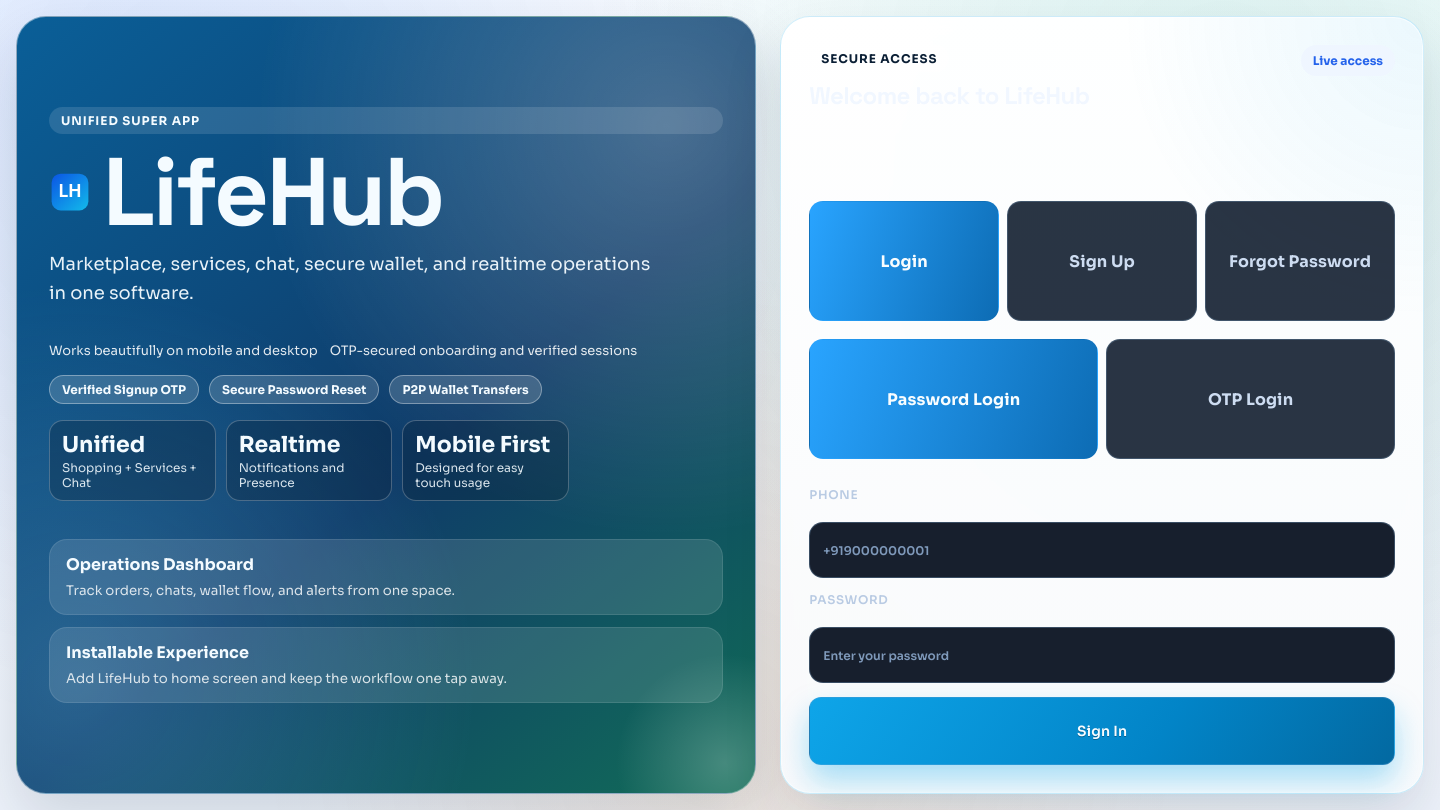
Test: AuthPage UI Functional Tests › should render login tab and switch to signup mode when clicked
The image size is (1440, 810).
Check: the button "Sign In" is shown, box [809,697,1395,765]
Click Sign Up tab
Click the button "Sign Up".
click(1102, 261)  # box [1007,201,1197,321]
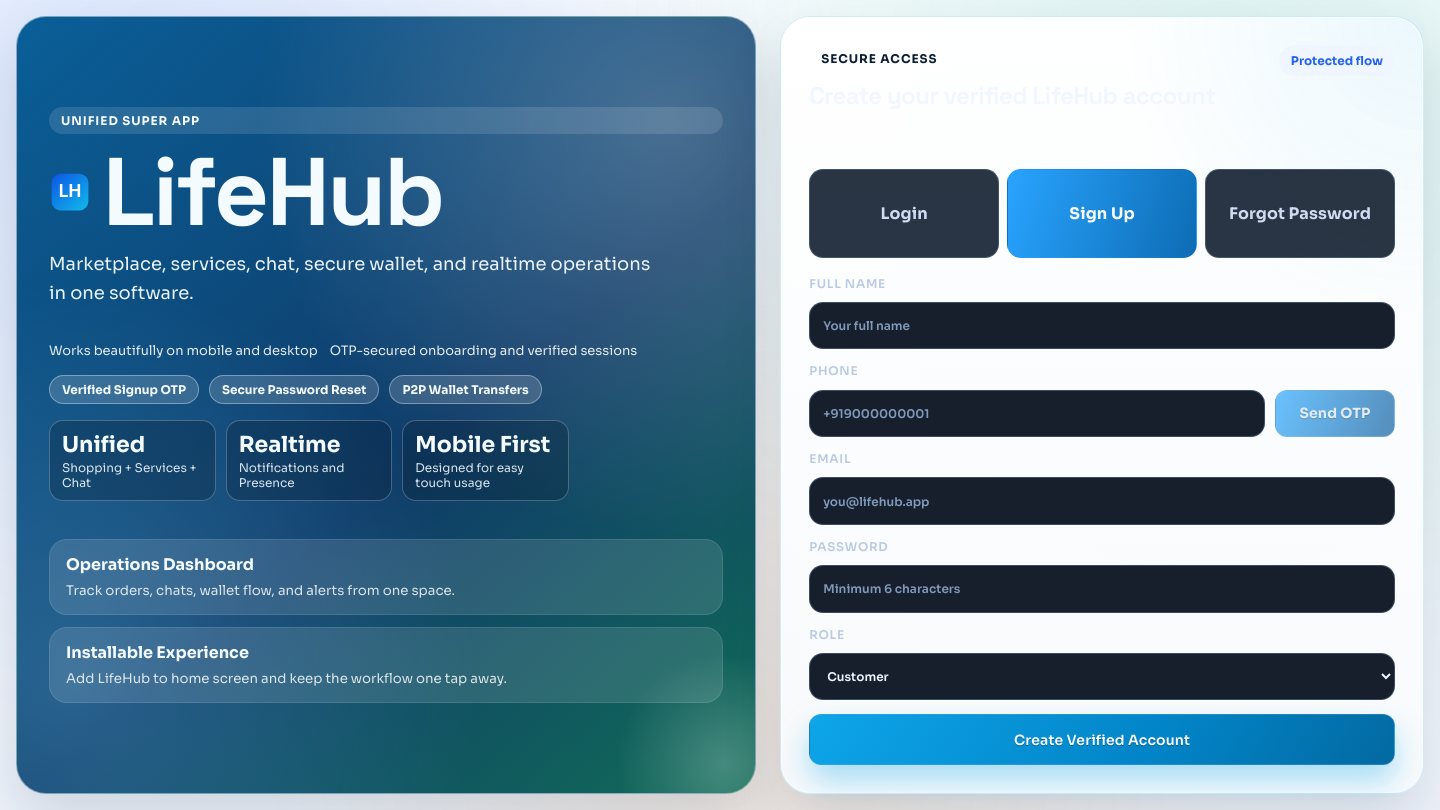
Check: the field with placeholder "Your full name" is shown, box [809,302,1395,349]
Check: the button "Create Verified Account" is shown, box [809,714,1395,765]
